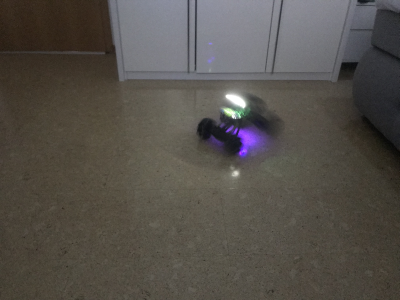remote control car: (194, 91, 285, 157)
